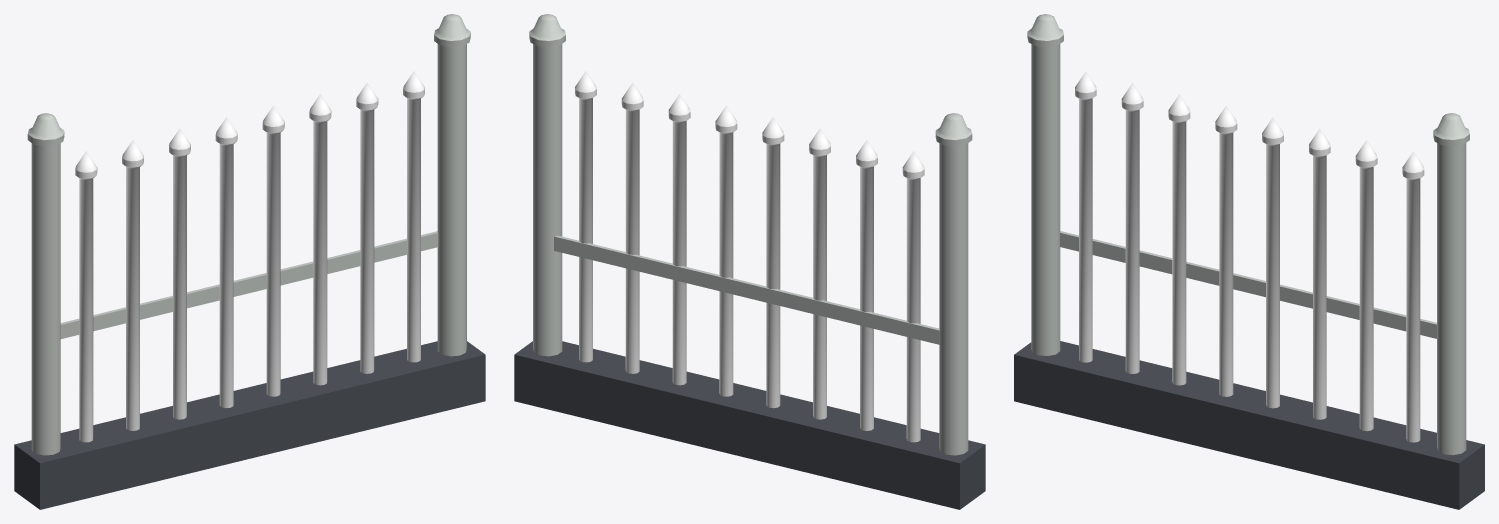
File: Fence_4.fbx
The picture shows the model from 3 angles, left to right: view 1: azimuth 30°, elevation 25°; view 2: azimuth 150°, elevation 25°; view 3: azimuth 330°, elevation 25°; orthographic projection.
Visible parts, largest first — view 1: Fence_4; view 2: Fence_4; view 3: Fence_4.
Boxes of the visible parts, x1=… form: Fence_4: x1=14, y1=14, x2=485, y2=509; Fence_4: x1=514, y1=14, x2=985, y2=509; Fence_4: x1=1014, y1=14, x2=1484, y2=509.
Size of the model in its own units: 345 by 282 by 34.57.
